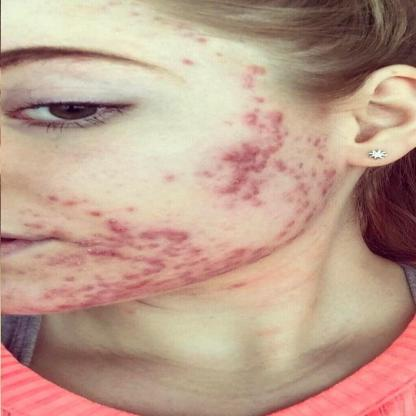Acne: (162, 49, 349, 250)
